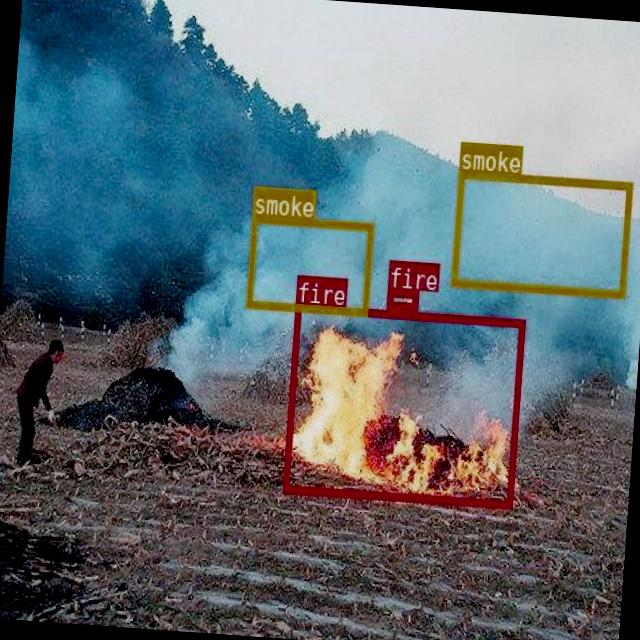fire: (281, 302, 524, 506), (385, 286, 417, 310)
smoke: (449, 168, 631, 297), (245, 214, 372, 314)
